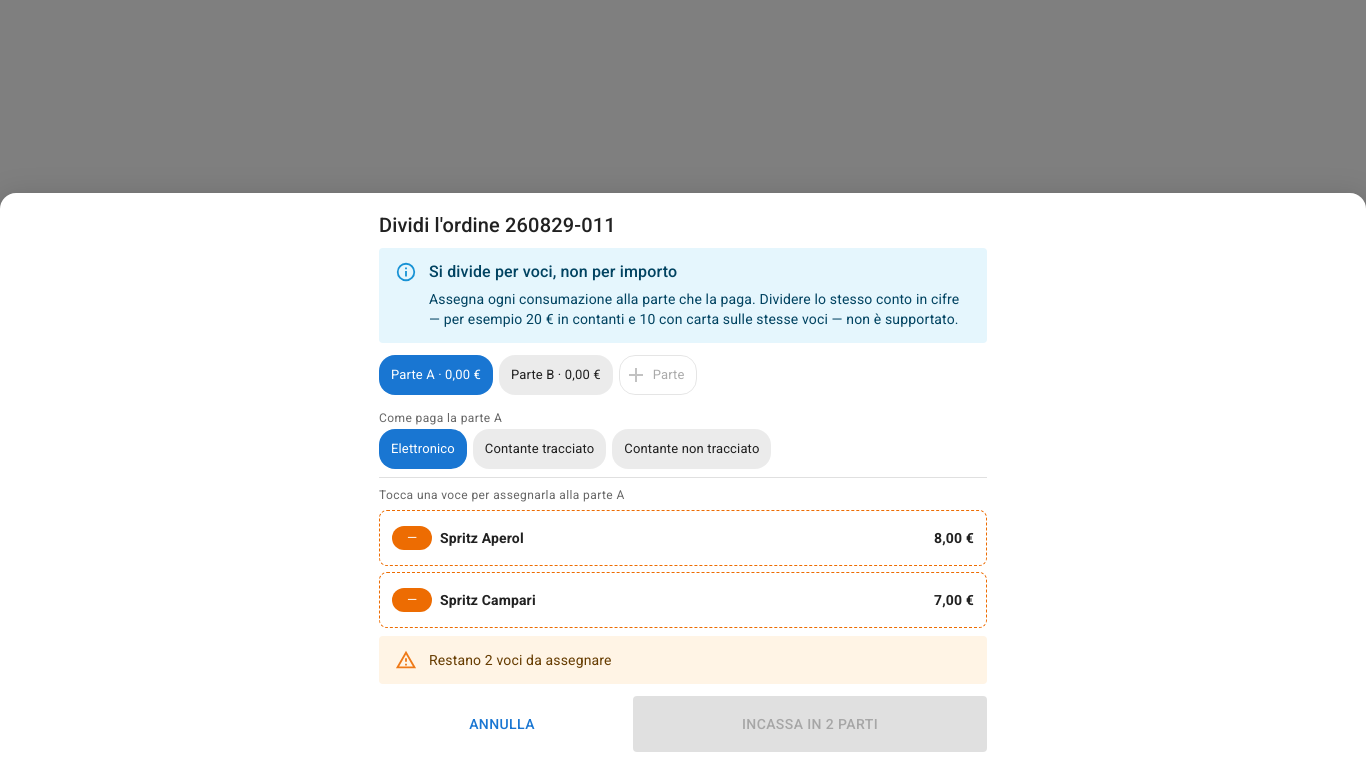
Scenario: SplitOrdine › riassegnare una voce la sposta invece di duplicarla
Click the text "Spritz Aperol". click: click(482, 538)
box: [440,530,524,546]
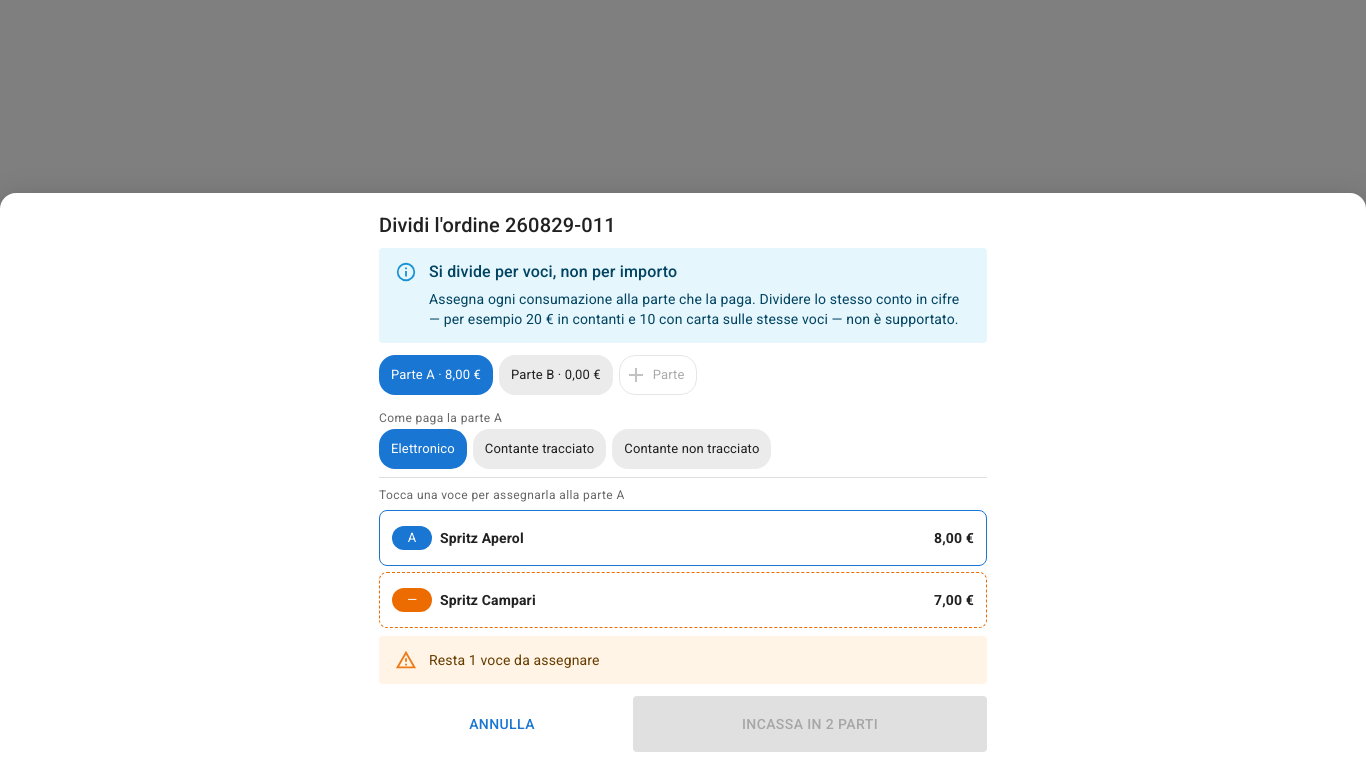
Click the button "Parte B · 0,00 €". click: click(556, 375)
box: [499,355,613,395]
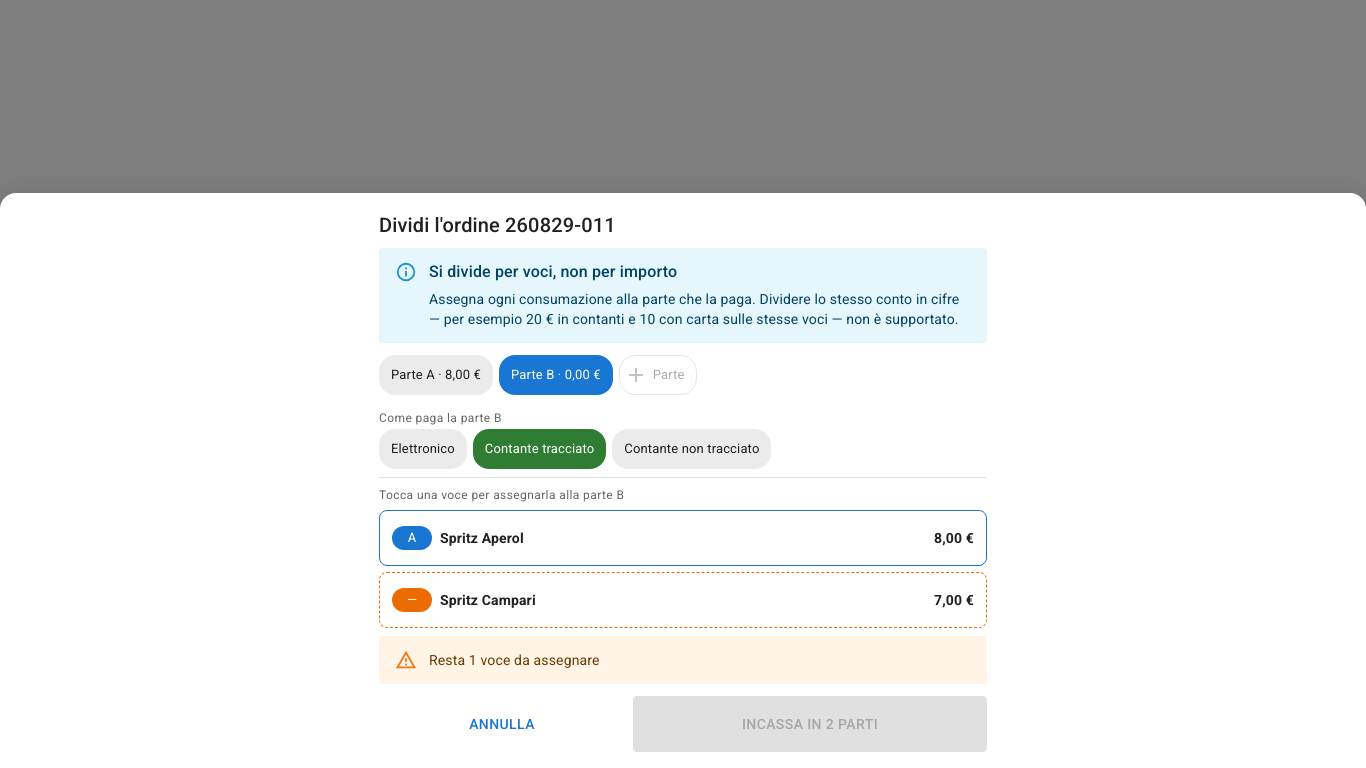
Click the text "Spritz Aperol". click: click(482, 538)
box: [440,530,524,546]
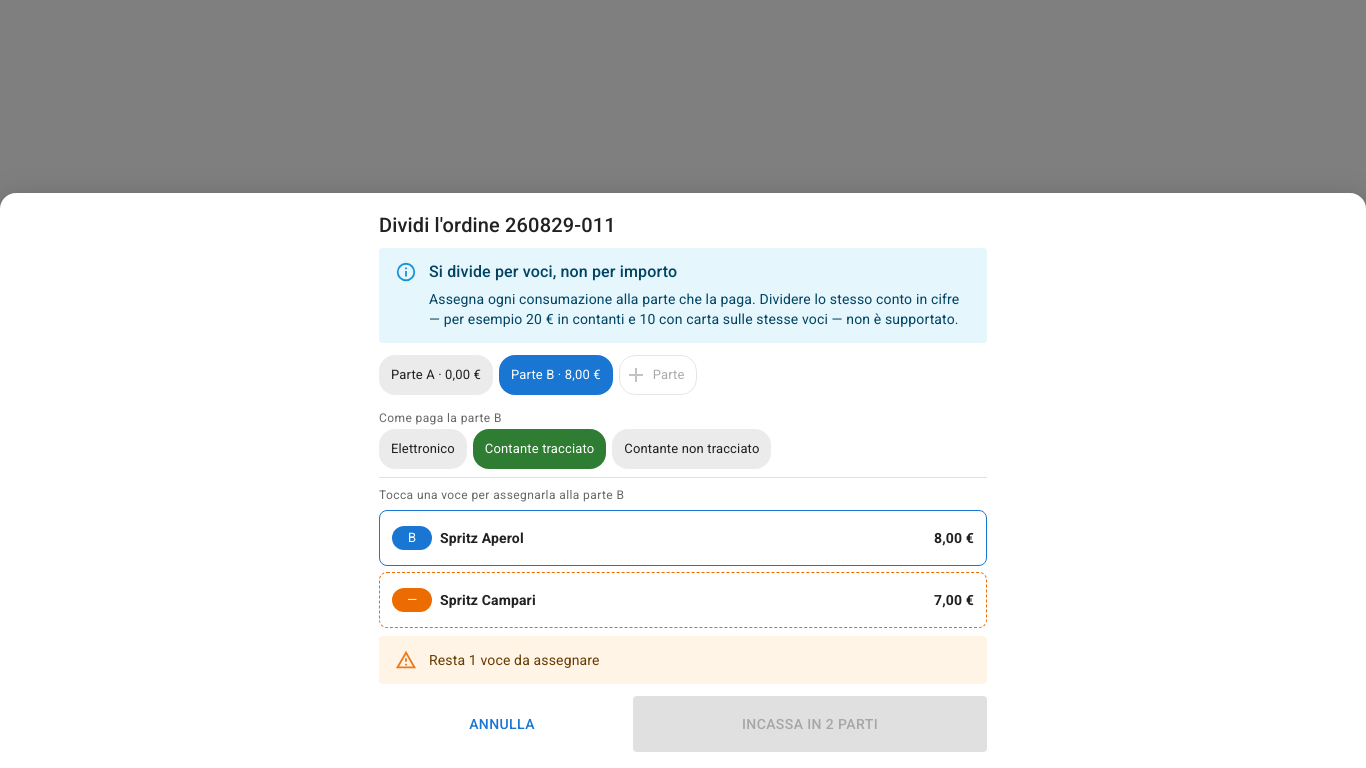
Click the text "Spritz Campari". click: click(488, 600)
box: [440,592,536,608]
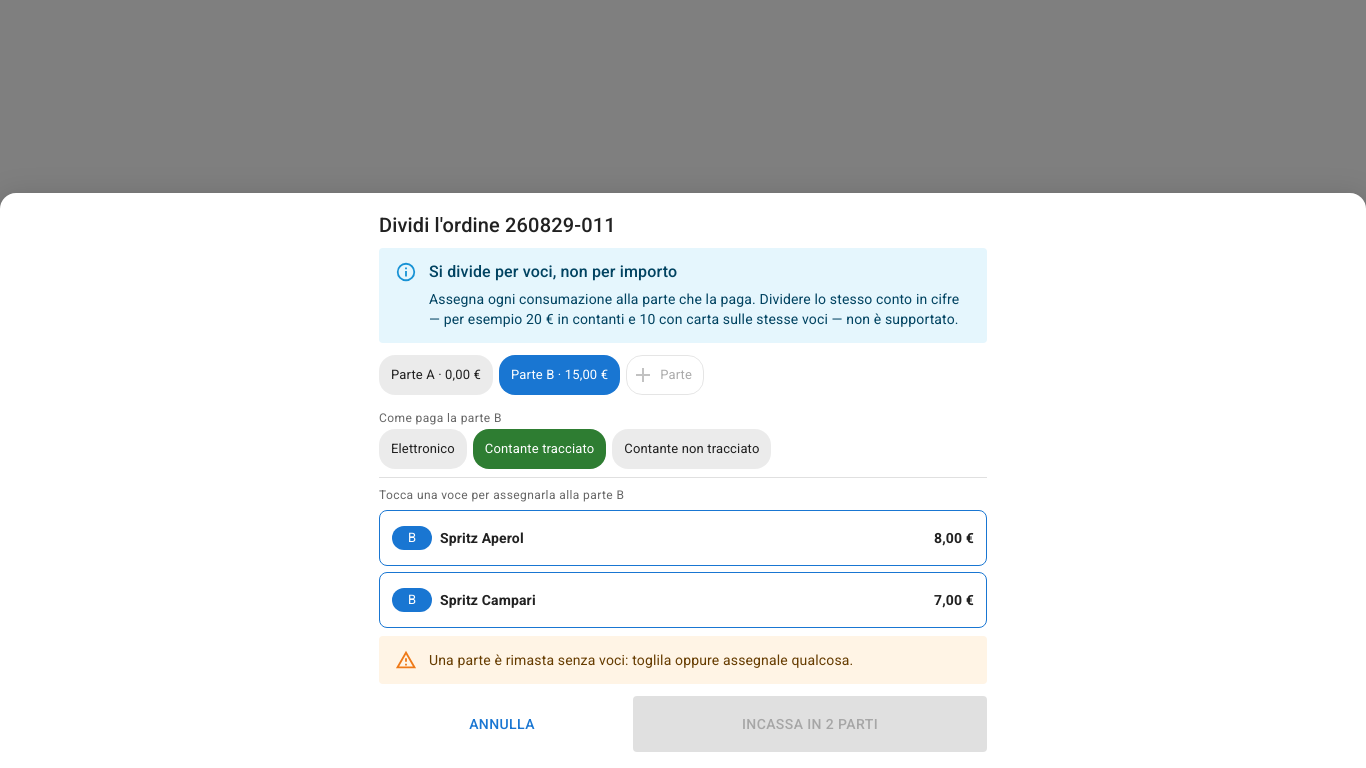
Expected: the text "Parte A · 0,00 €" is shown, [391,367,481,382]
Expected: the text "Una parte è rimasta senza voci" is shown, [429,652,853,668]
Expected: the text "Parte B · 15,00 €" is shown, [511,367,608,382]
